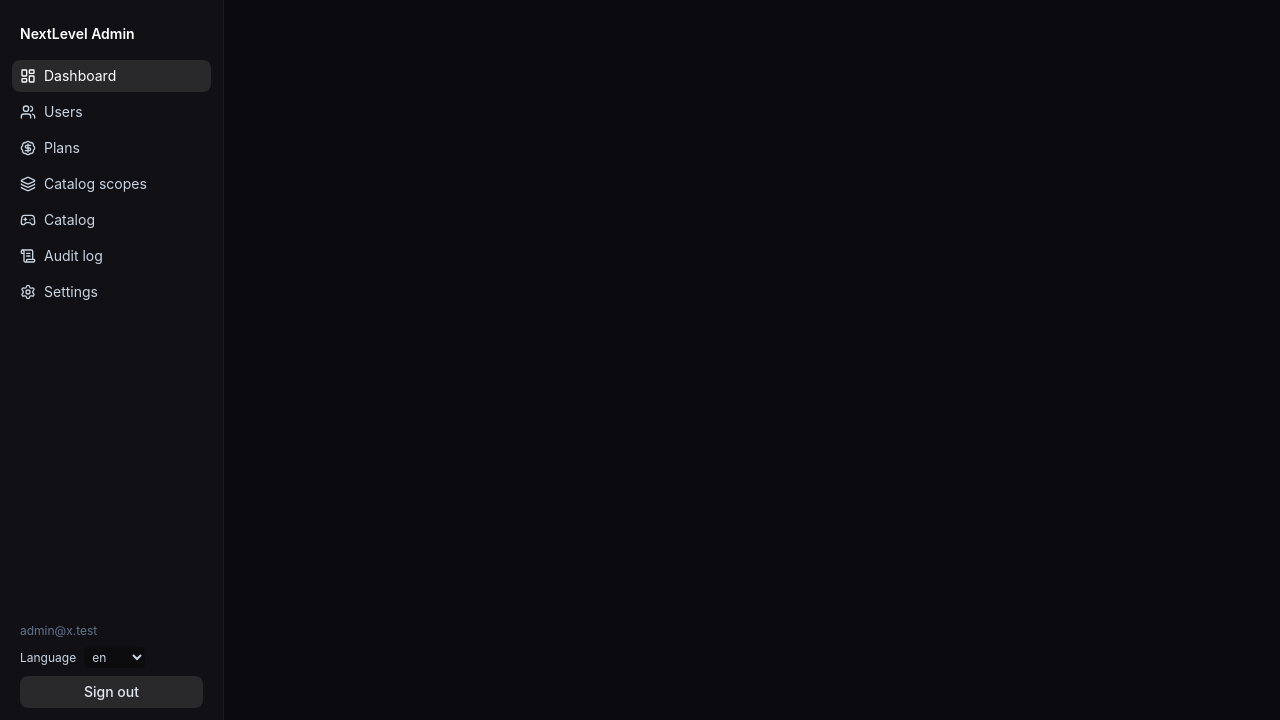
Test: console sign-in (S13, ADR-006 web flow) › Sign out returns to the sign-in page
Click the button "Sign out".
click(112, 692)  # box [20,676,203,708]
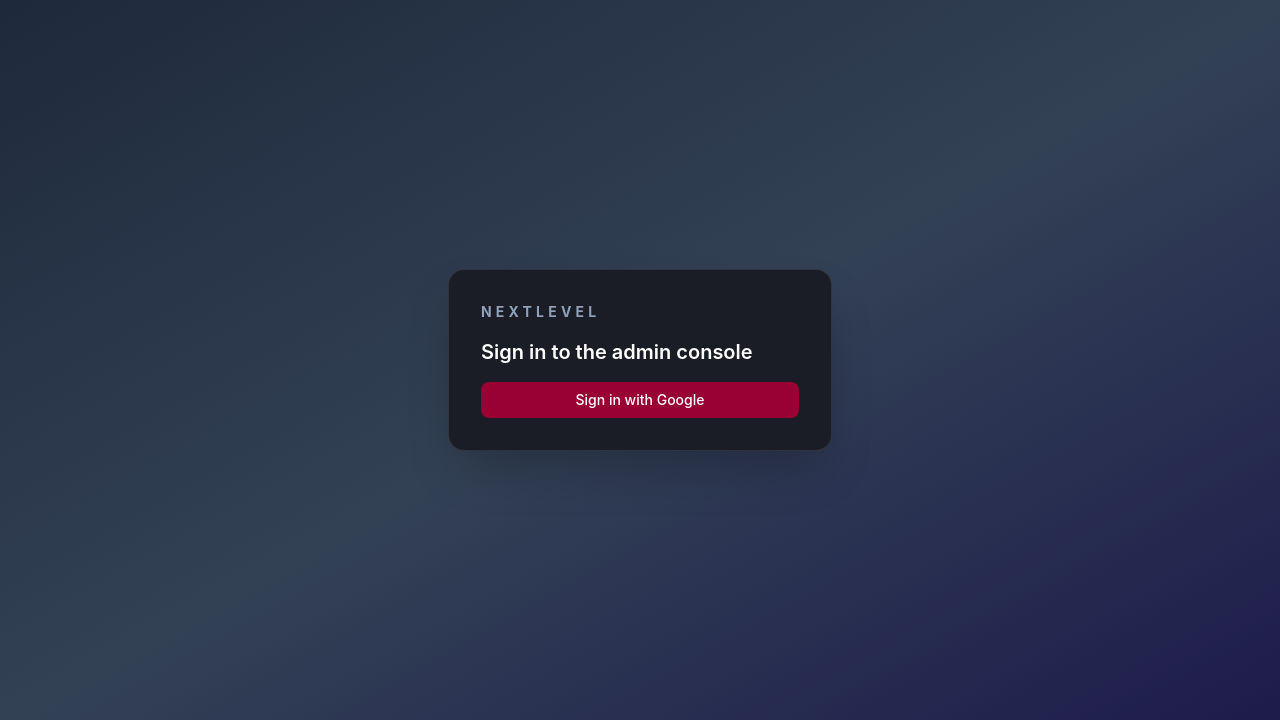
Expected: the link "Sign in with Google" is shown, [481,382,799,418]
